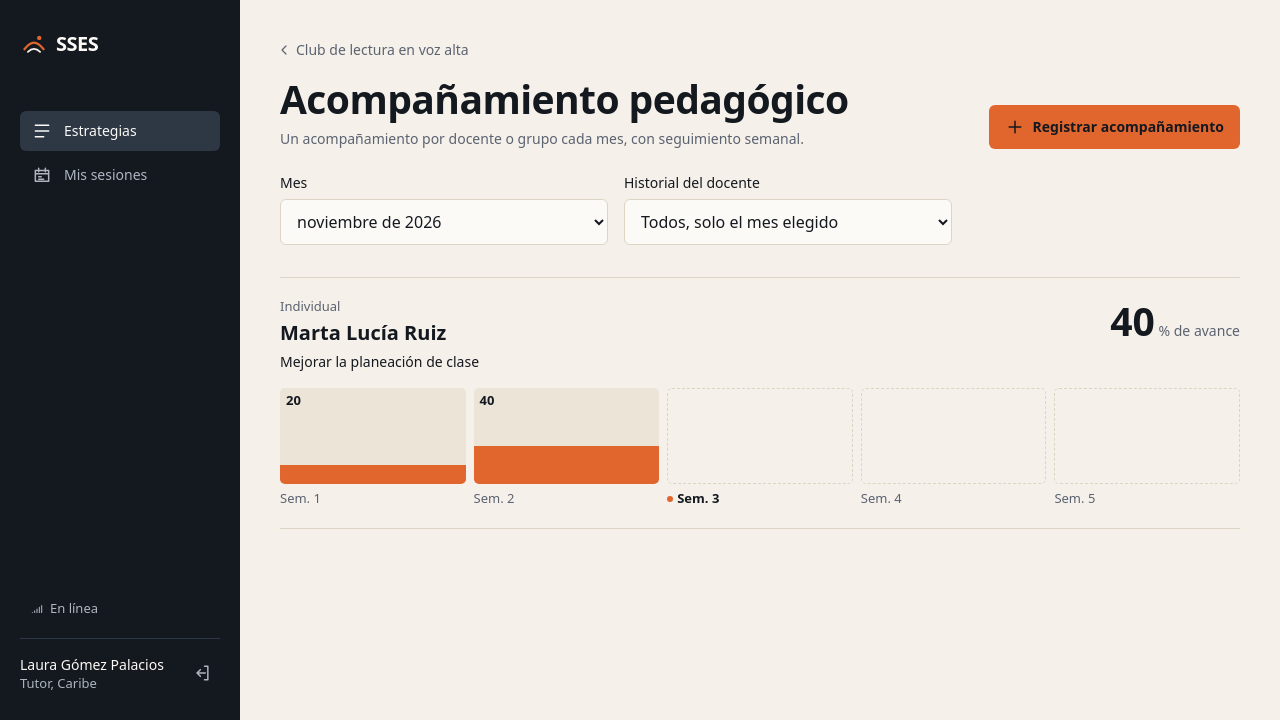
Scenario: Acompañamientos › RQ_21 · 6A: sin señal guarda el seguimiento en el dispositivo y lo marca pendiente
Expected: the text "Mejorar la planeación de clase" is shown, [280, 352, 479, 372]
Click the button with aria-label "semana 3": [760, 448] box [667, 388, 853, 508]
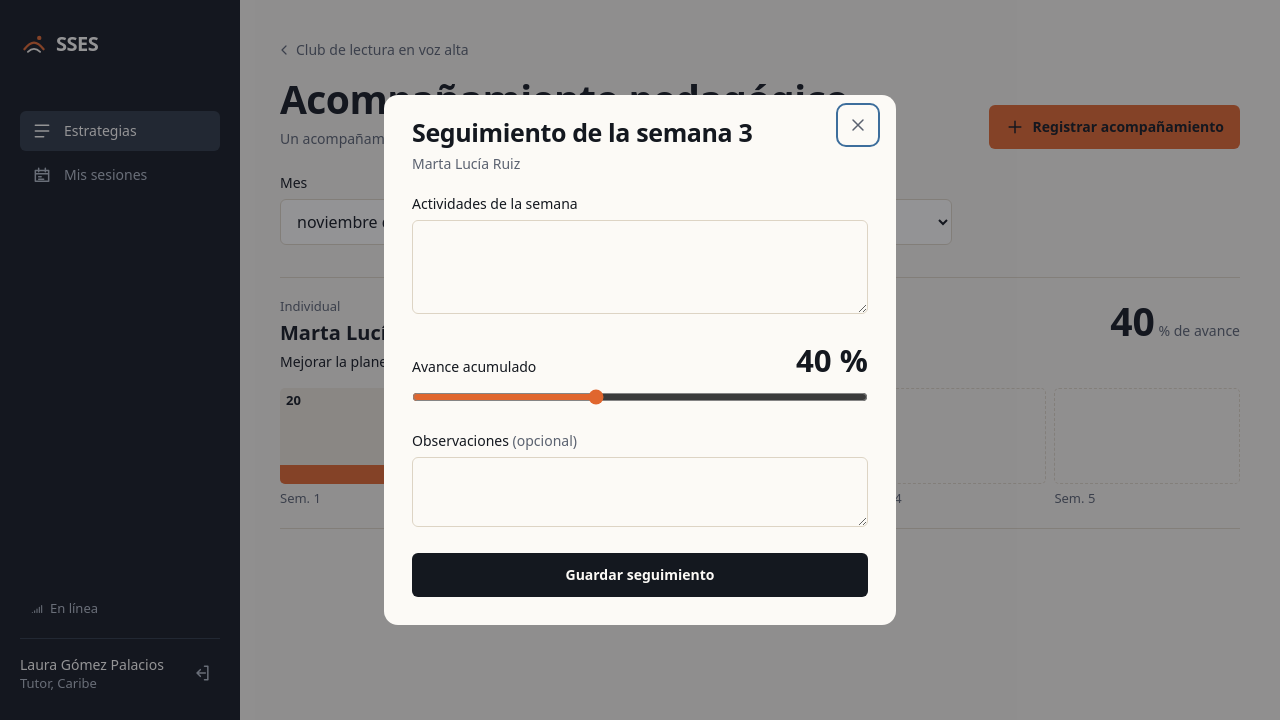
In the text box labelled "Actividades de la semana": [640, 267] box [412, 220, 868, 314], type "Visita en zona rural"
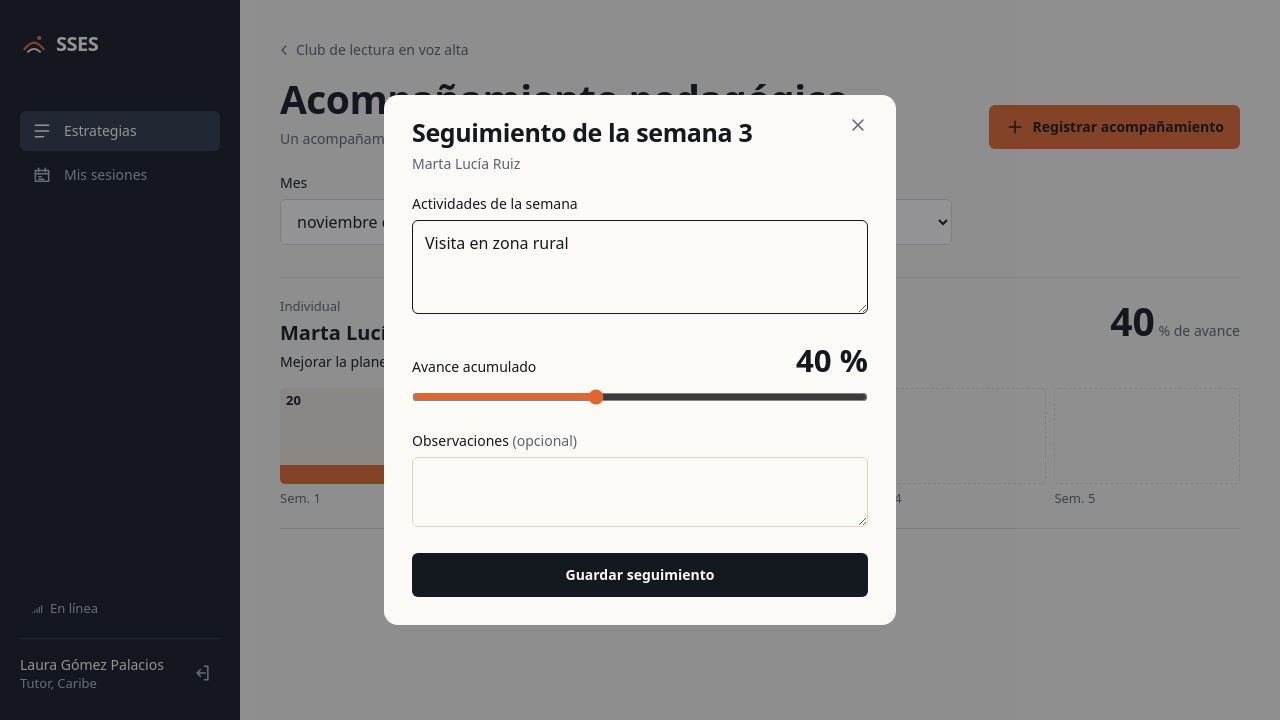
Click the button "Guardar seguimiento": [640, 575] box [412, 553, 868, 597]
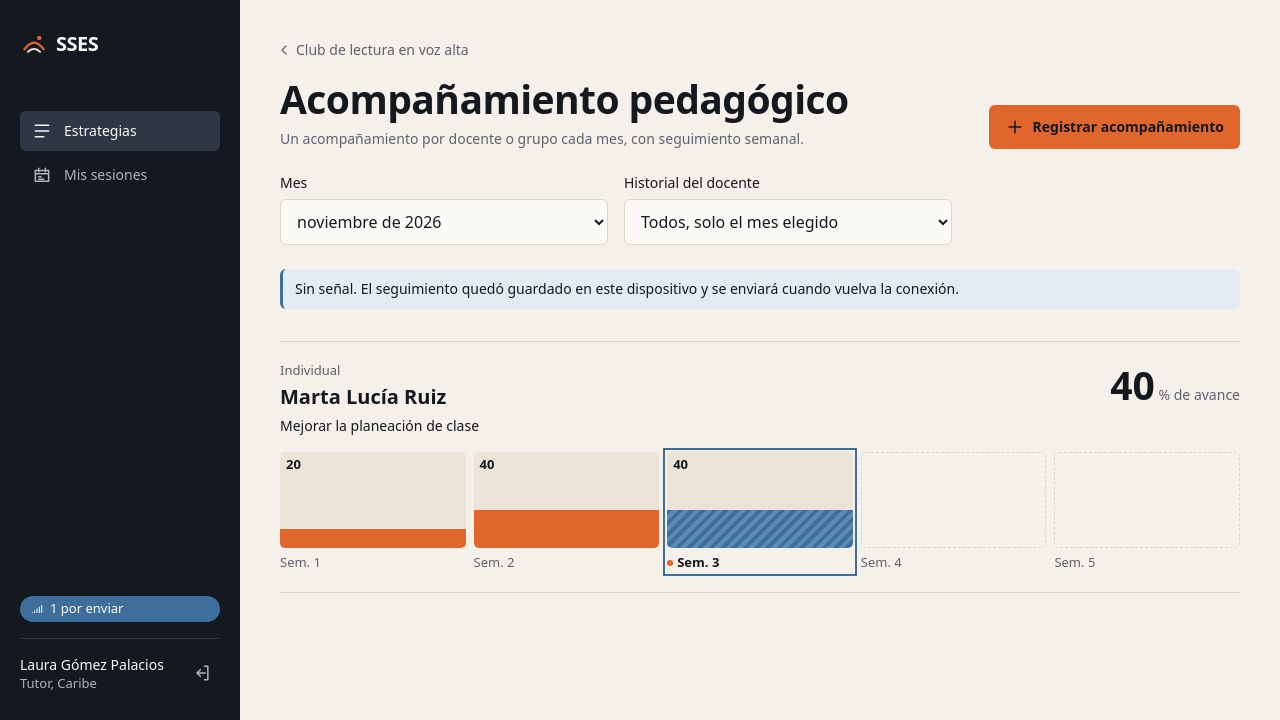
Now the button with aria-label "semana 3: 40 %, pendiente de enviar" is shown, box [667, 452, 853, 572]
